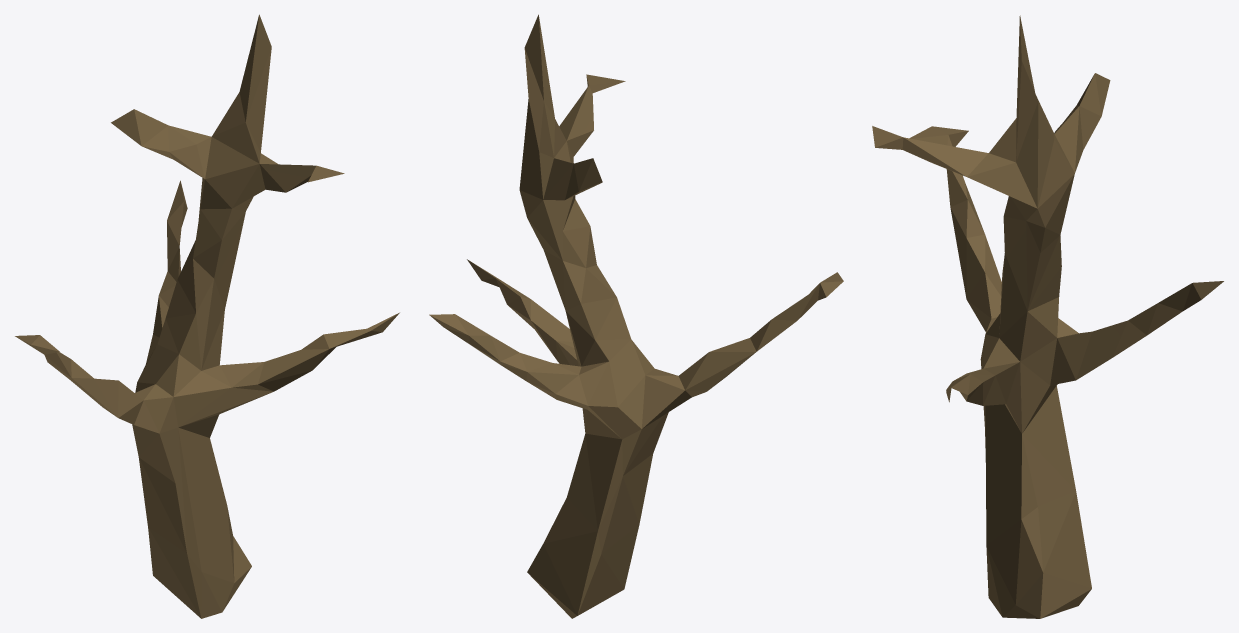
Rendered from DRY_BRANCH_SHRUB.shadow.glb.
3 views of the same model, side by side, from view 1: azimuth 30°, elevation 25°; view 2: azimuth 150°, elevation 25°; view 3: azimuth 270°, elevation 25° (orthographic). The views are drawn at different scales.
Visible parts, largest first — view 1: DRY_BRANCH_SHRUB; view 2: DRY_BRANCH_SHRUB; view 3: DRY_BRANCH_SHRUB.
Boxes of the visible parts, left/top/right/bottom form: DRY_BRANCH_SHRUB: left=15, top=14, right=399, bottom=618; DRY_BRANCH_SHRUB: left=429, top=14, right=843, bottom=618; DRY_BRANCH_SHRUB: left=872, top=15, right=1223, bottom=618.
Size of the model in its own units: 0.3052 by 0.4511 by 0.2299.
1 material, 1 textured.
